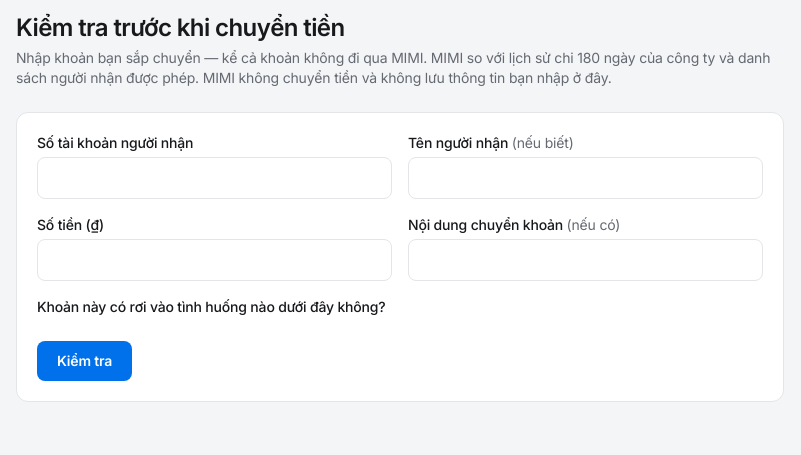
Test: Kiểm tra trước khi chuyển tiền › máy chủ lỗi: báo lỗi, không hiện kết quả nào
Type "0123456789" into the field labelled "Số tài khoản người nhận".
click(214, 178); type("0123456789")  # box [37,157,392,199]
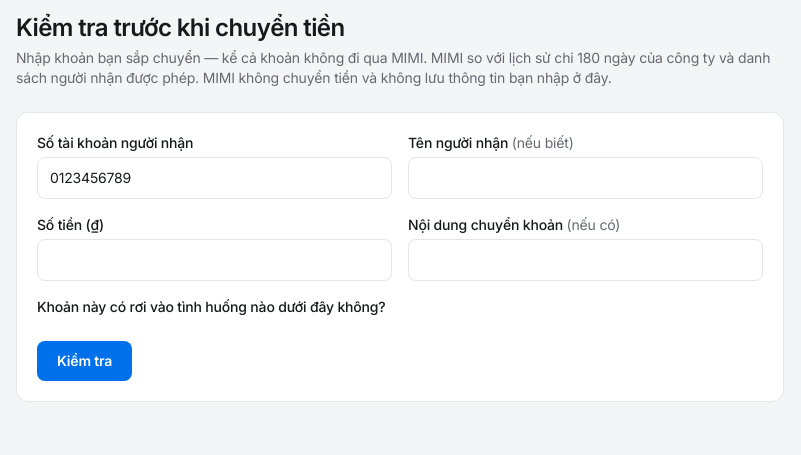
Type "1000000" into the field labelled "Số tiền (₫)".
click(214, 260); type("1000000")  # box [37,239,392,281]
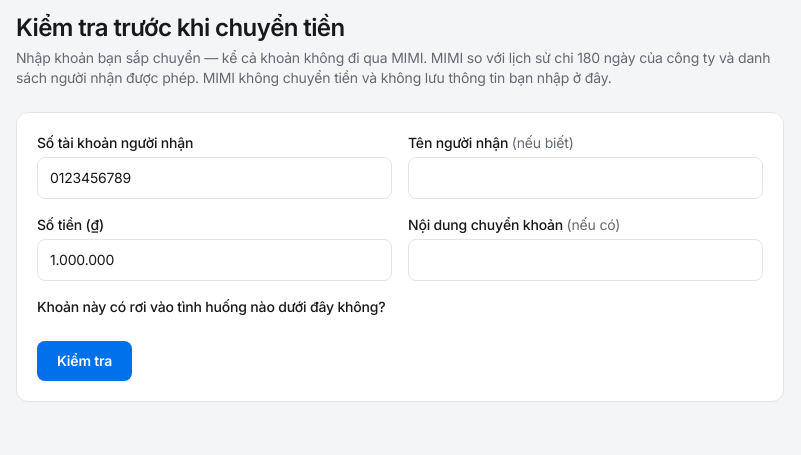
Click the button "Kiểm tra".
click(85, 361)  # box [37,341,132,381]
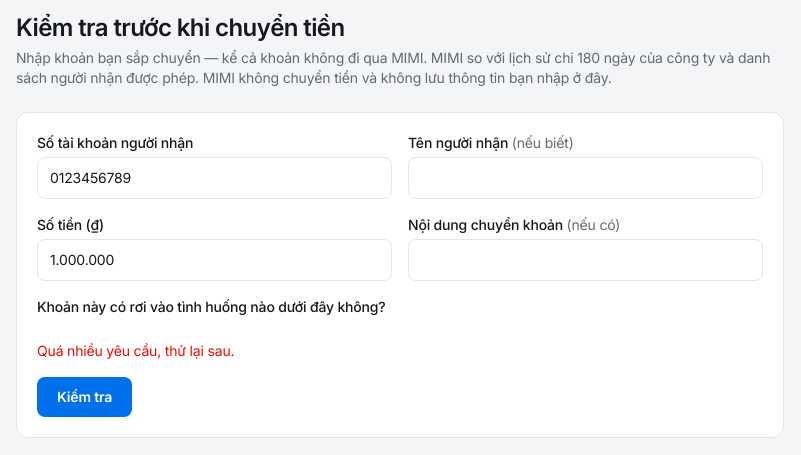
expect the message shows "Quá nhiều yêu cầu": met, box [37,342,234,359]
